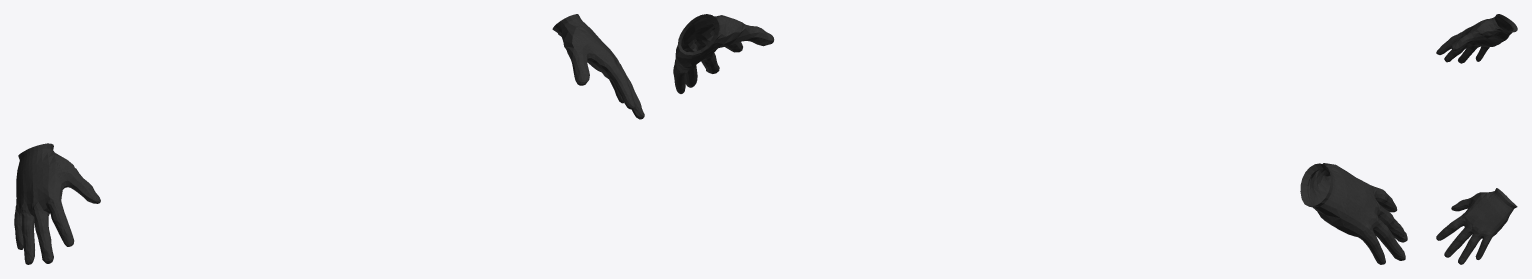
Rendered from mhw_toigo_gloves_short.glb.
The picture shows the model from 3 angles, left to right: view 1: azimuth 30°, elevation 25°; view 2: azimuth 150°, elevation 25°; view 3: azimuth 270°, elevation 25°; orthographic projection. The views are drawn at different scales.
Visible parts, largest first — view 1: mhw_toigo_gloves_short; view 2: mhw_toigo_gloves_short; view 3: mhw_toigo_gloves_short.
Boxes of the visible parts, <box> form: mhw_toigo_gloves_short: <box>14,14,644,264</box>; mhw_toigo_gloves_short: <box>673,14,1407,264</box>; mhw_toigo_gloves_short: <box>1436,14,1517,264</box>.
Size of the model in its own units: 1.22 by 0.1733 by 0.2064.
1 material, 1 textured.
